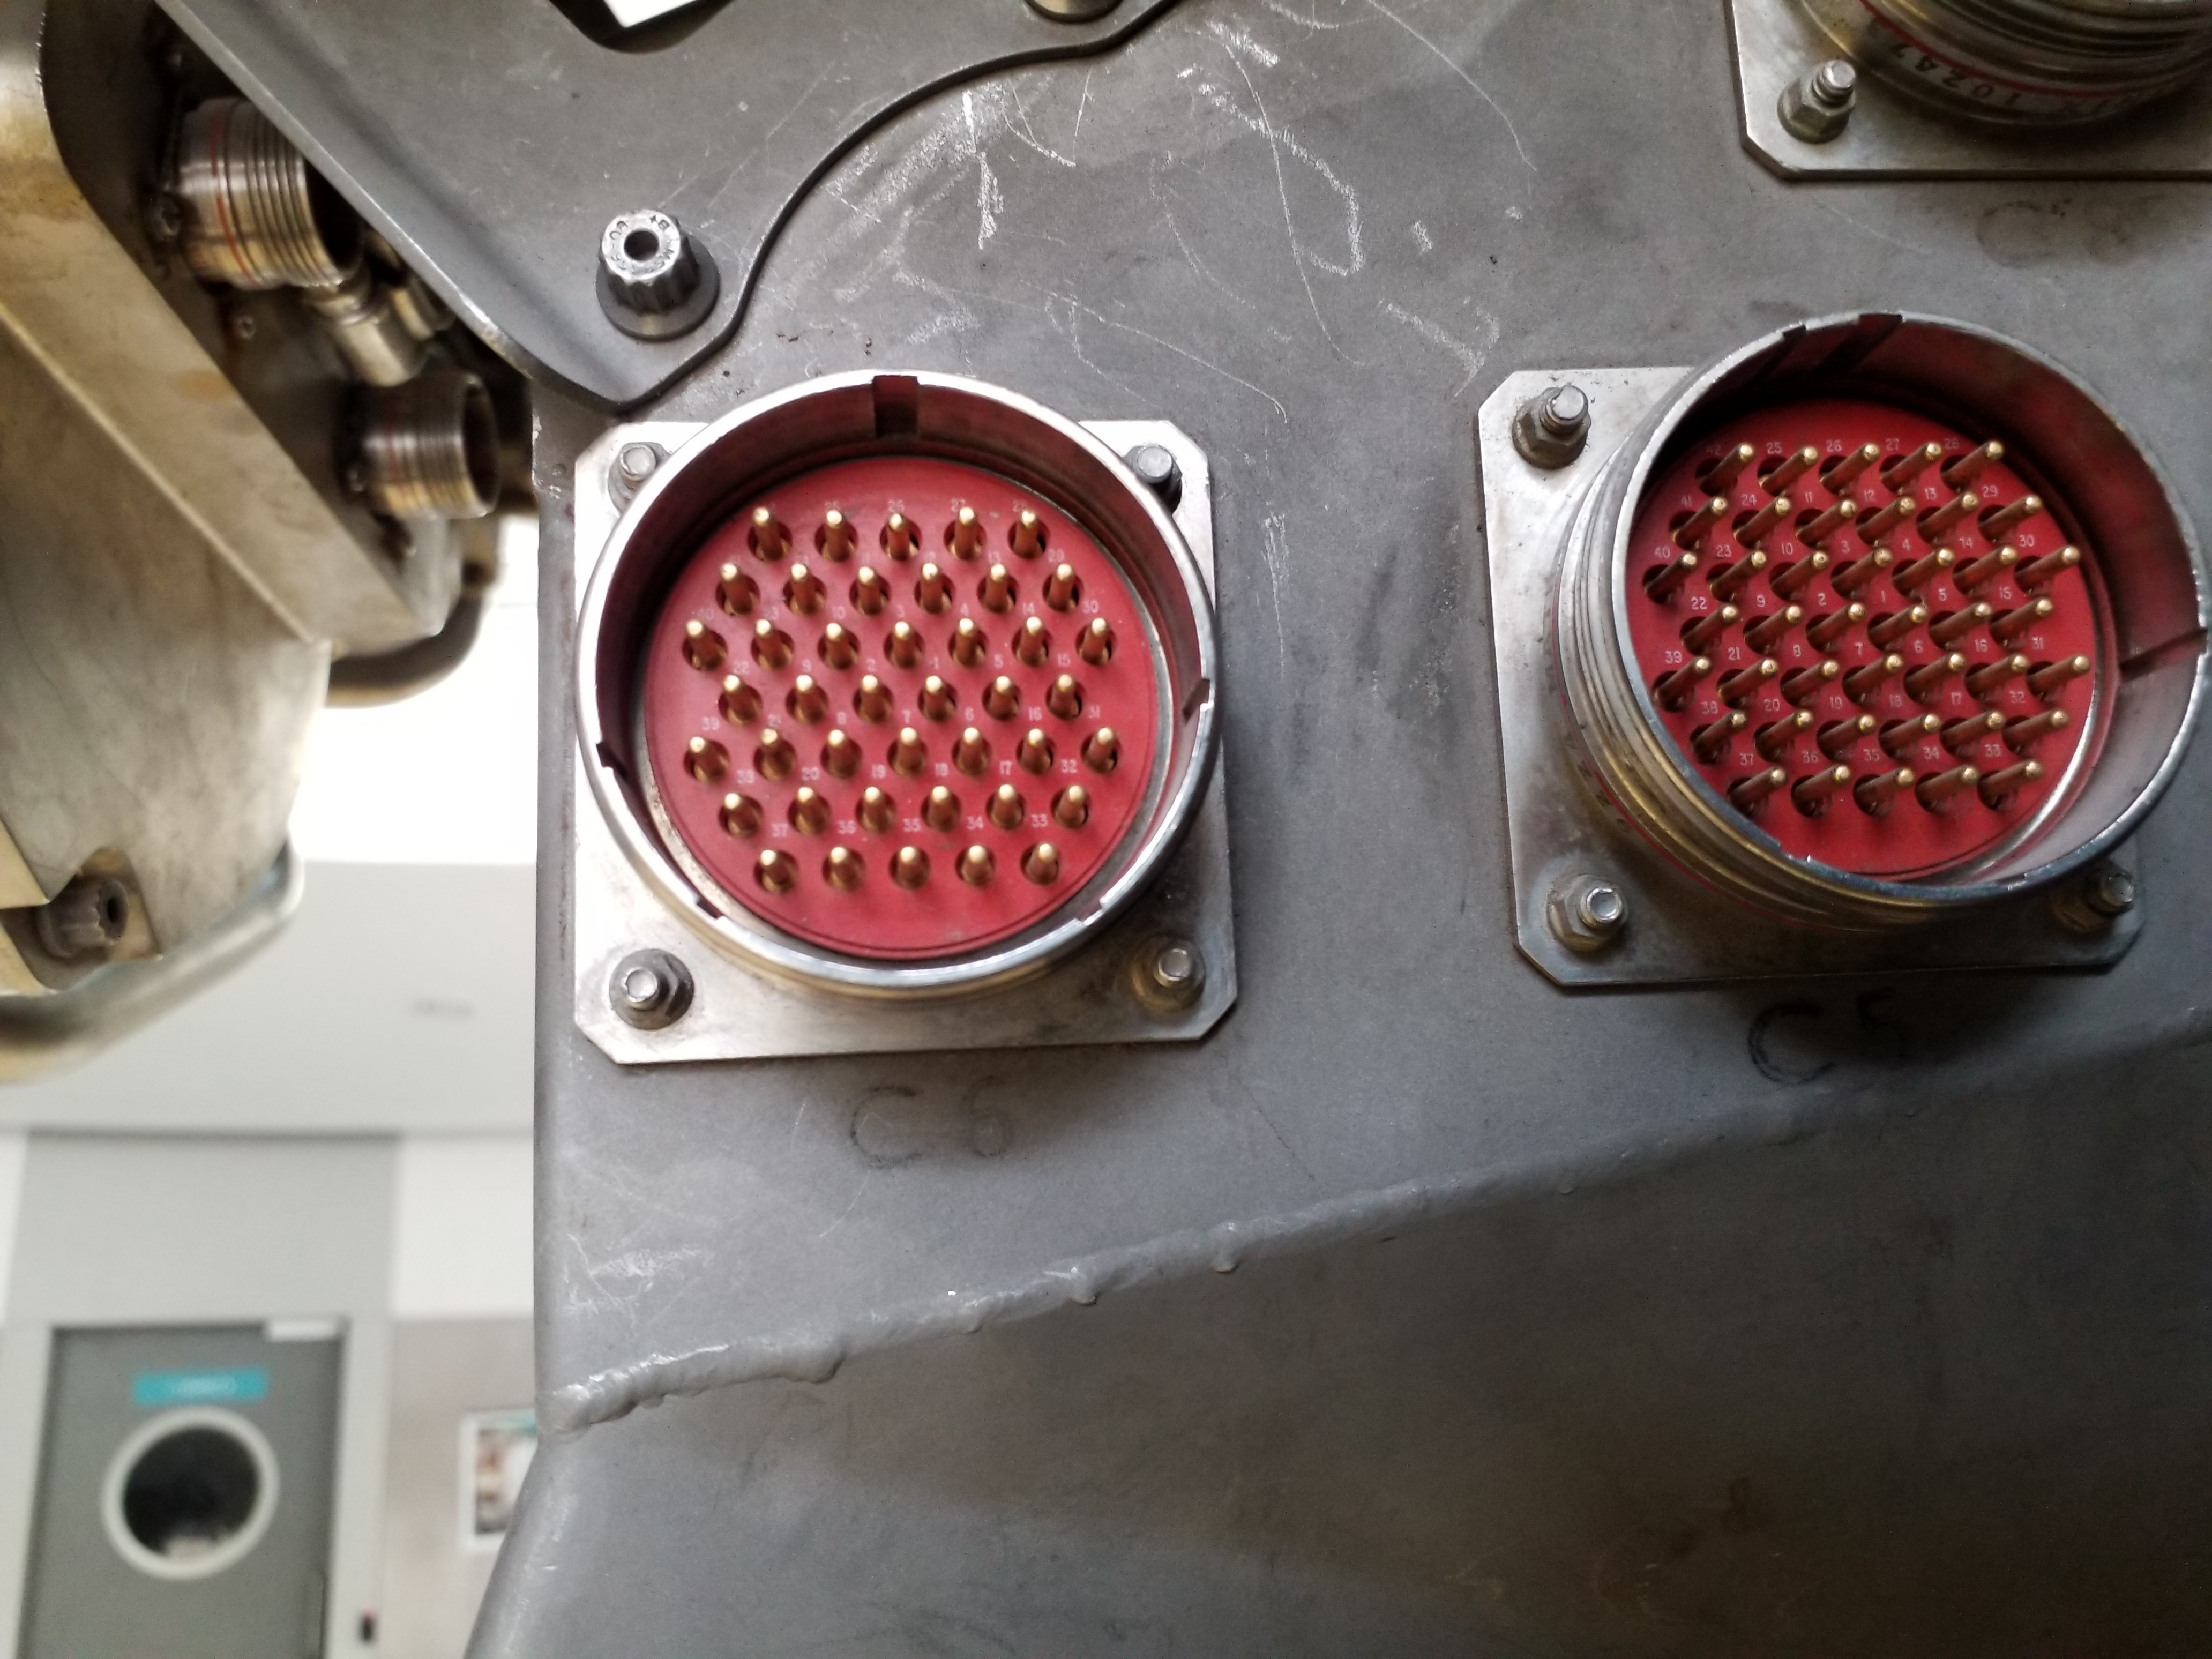outlet: (561, 364, 1242, 1035), (1548, 288, 2212, 932)
